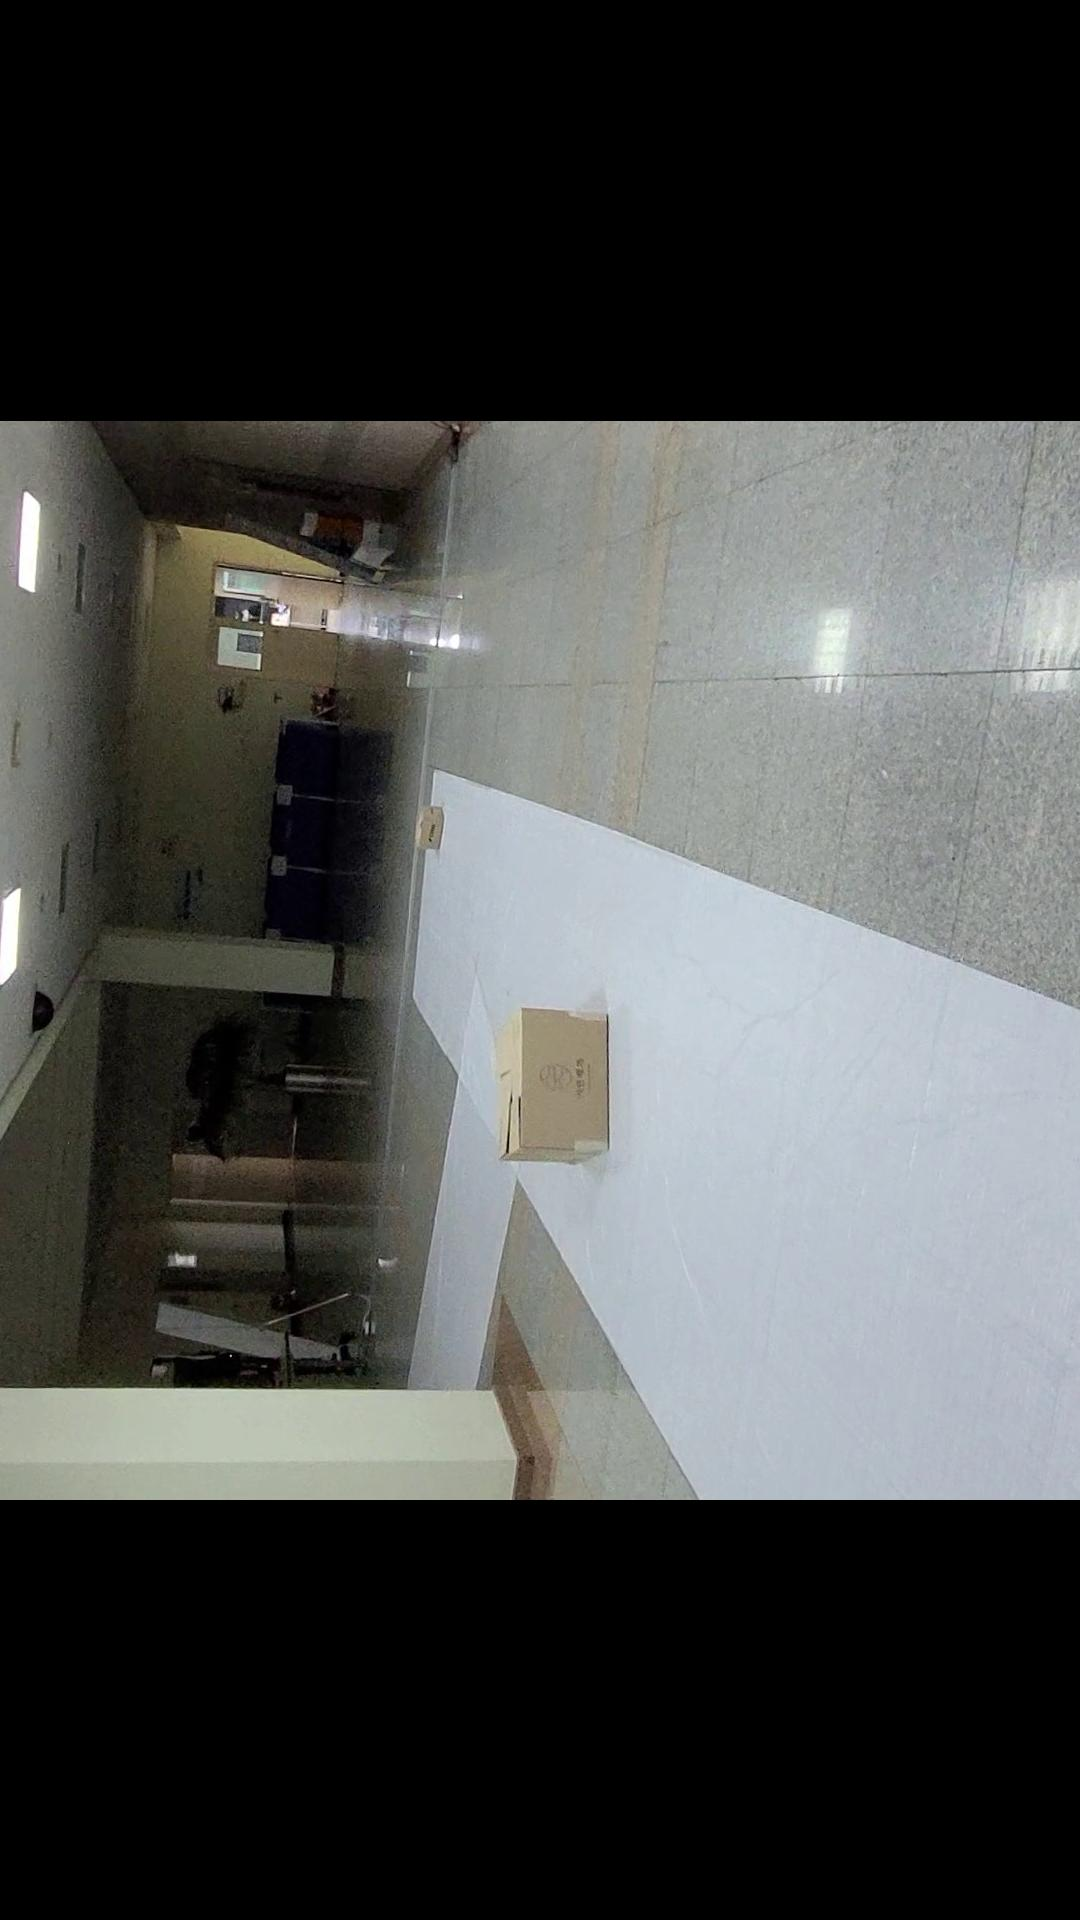Box: (458, 960, 644, 1215), (380, 756, 491, 887)
